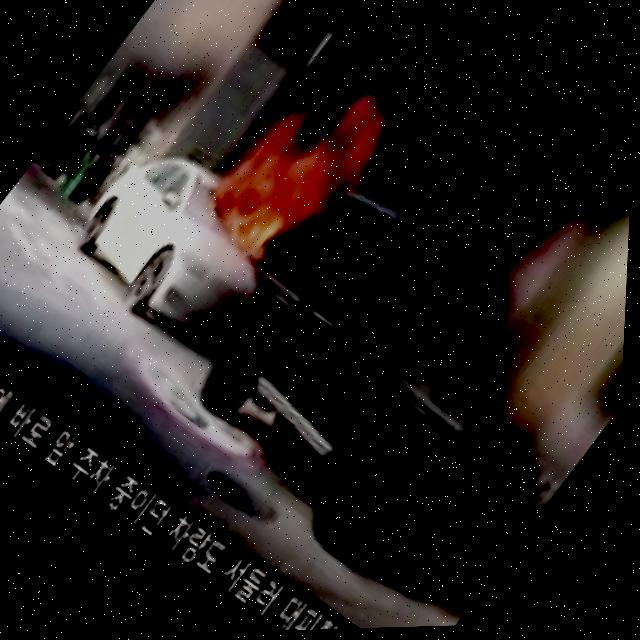Fire: (191, 53, 423, 295)
Smoke: (303, 0, 640, 286)
